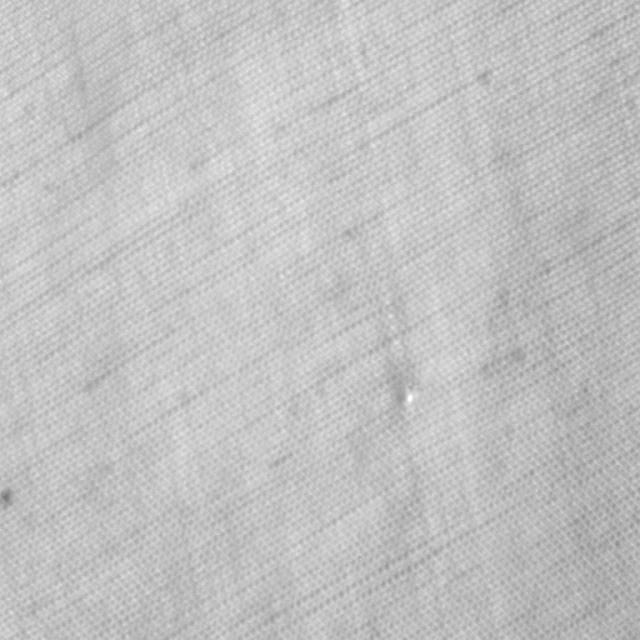hole: (393, 368, 422, 412)
